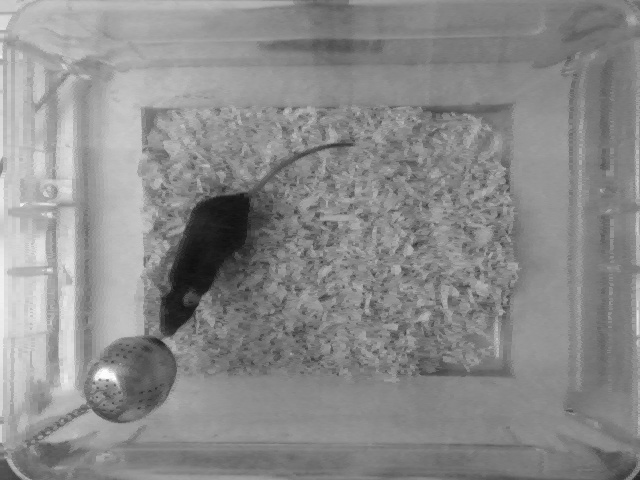mice: (158, 139, 354, 338)
